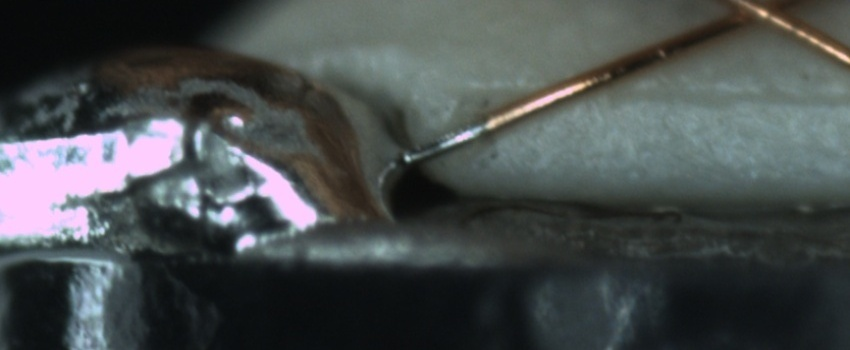CL: (705, 1, 820, 36)
DL: (470, 65, 849, 124)
TS: (406, 117, 493, 167)
